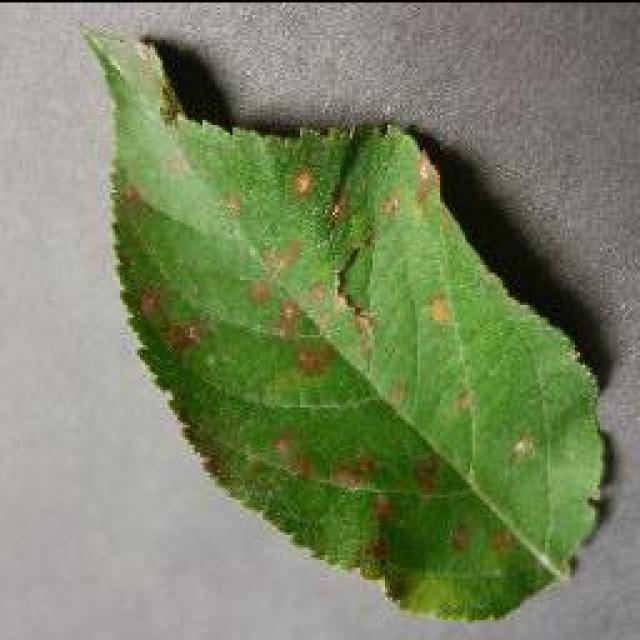apple healthy: (78, 22, 612, 622)
